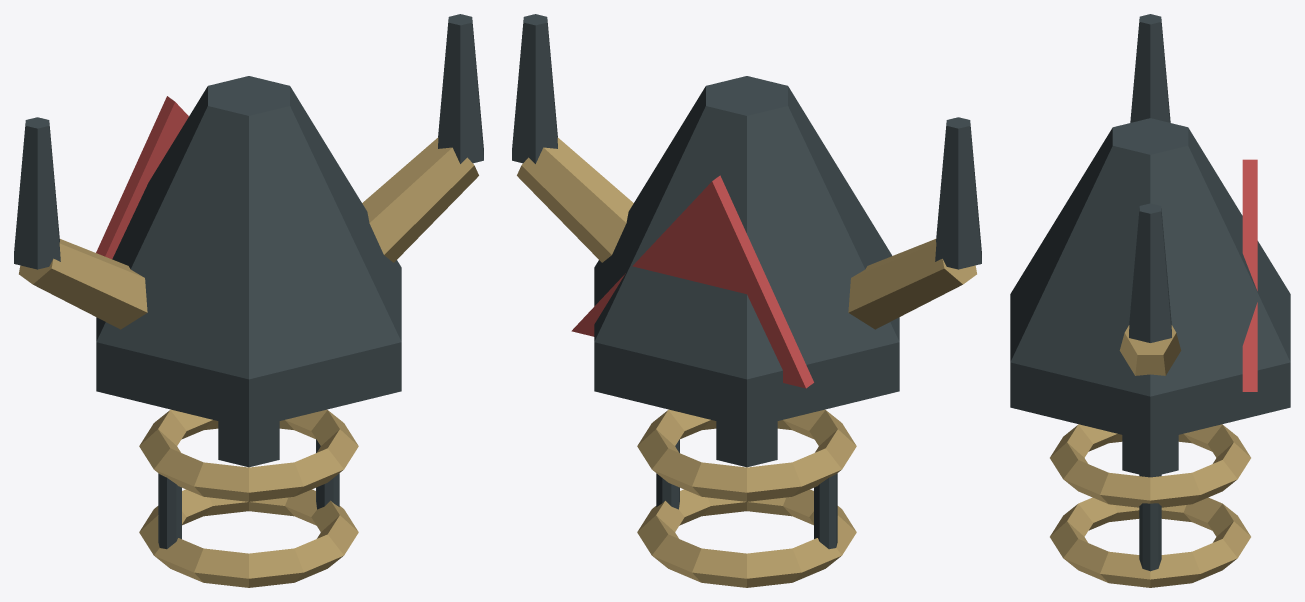
Rendered from Arsenal_BackburnSnuffer.fbx.
3 renders of one model, left to right at view 1: azimuth 30°, elevation 25°; view 2: azimuth 150°, elevation 25°; view 3: azimuth 270°, elevation 25°, orthographic. The views are drawn at different scales.
Visible parts, largest first — view 1: Arsenal_BackburnSnuffer; view 2: Arsenal_BackburnSnuffer; view 3: Arsenal_BackburnSnuffer.
Part boxes in pixels (x1,y1,x2,y2): Arsenal_BackburnSnuffer: (14, 14, 483, 587); Arsenal_BackburnSnuffer: (512, 14, 981, 587); Arsenal_BackburnSnuffer: (1010, 14, 1290, 587).
Size of the model in its own units: 0.4 by 0.389 by 0.2252.
